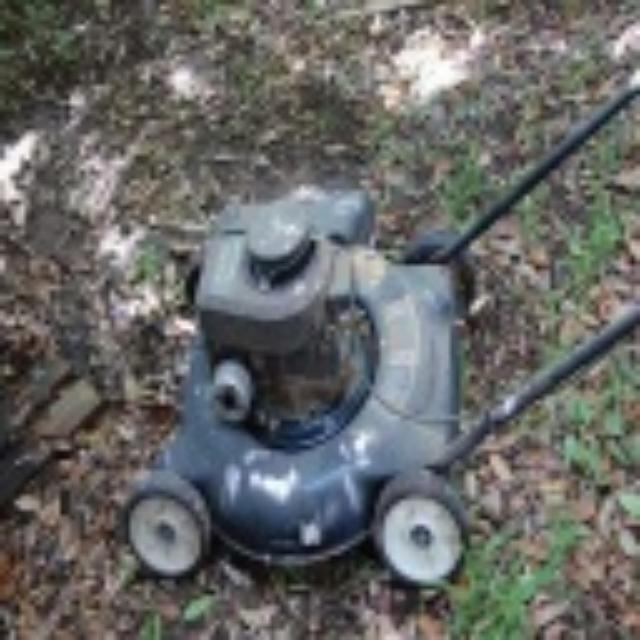Rotary-Mower: (70, 110, 640, 620)
